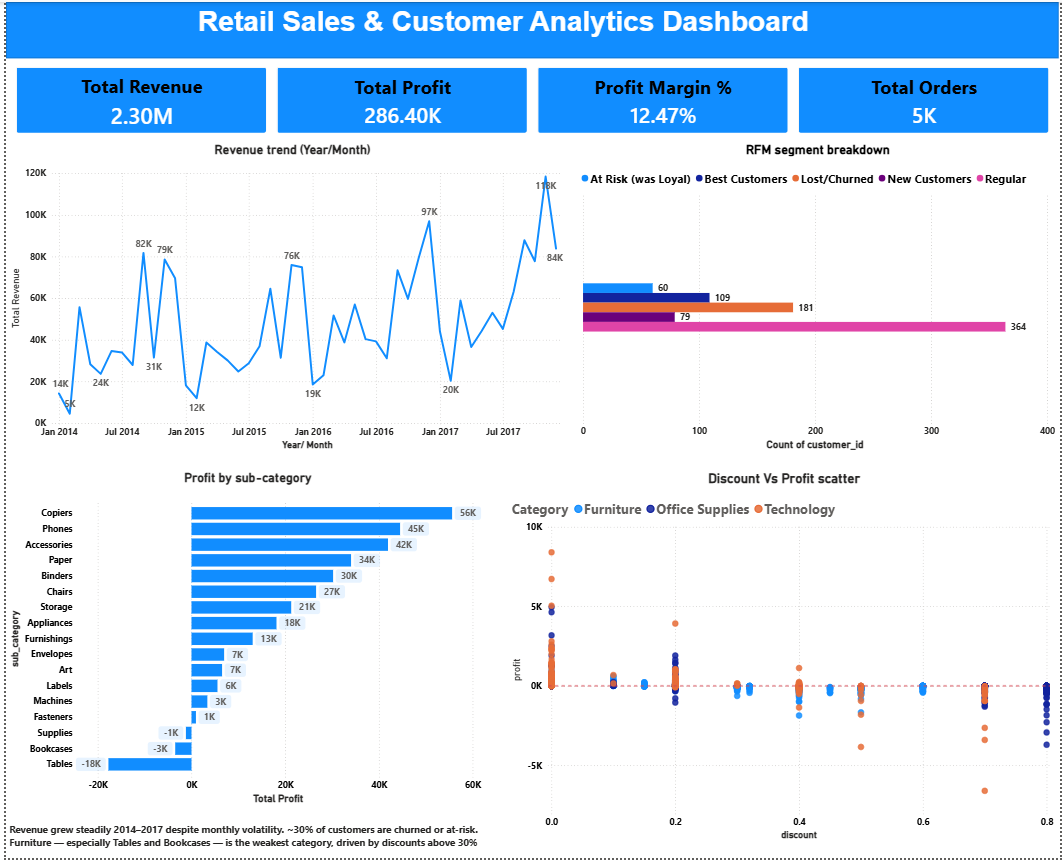

The page's visual inventory and layout, read from the dashboard file:
{"tool":"powerbi","page":{"name":"Page 1","canvas":[1600,1300],"ordinal":0},"visuals":[{"type":"cardVisual","fields":{"Data":["Measures Table.Total Revenue","Measures Table.Total Profit","Measures Table.Profit Margin %","Measures Table.Total Orders"]},"box":[1.9,85.4,1596.5,127.2],"z":0},{"type":"lineChart","title":"Revenue trend (Year/Month)","fields":{"Y":["Measures Table.Total Revenue"],"Category":["orders.order_date.Variation.Date Hierarchy.Year","orders.order_date.Variation.Date Hierarchy.Month"]},"box":[1.9,212.6,865.7,472.7],"z":1000},{"type":"actionButton","box":[0,0,100,40],"z":2000},{"type":"clusteredBarChart","title":"RFM segment breakdown","fields":{"Series":["rfm_segments.segment"],"Y":["Count(rfm_segments.customer_id)"]},"box":[867.6,212.6,730.9,472.7],"z":3000},{"type":"clusteredBarChart","title":"Profit by sub-category","fields":{"Category":["products.sub_category"],"Y":["Measures Table.Total Profit"]},"box":[0,711.9,734.7,510.7],"z":4000},{"type":"scatterChart","title":"Discount Vs Profit scatter","fields":{"X":["order_details.discount"],"Y":["order_details.profit"],"Series":["products.category"]},"box":[763.1,711.9,837.2,565.7],"z":5000},{"type":"shape","box":[0,0,1598.4,85.4],"z":6000},{"type":"textbox","box":[178.4,0,1154.2,85.4],"z":7000},{"type":"textbox","box":[0,1241.5,734.7,58.8],"z":8000}]}

Visuals, with their boxes in screenshot pixels (x1, y1, x2, y2), scaled from the page's 1600x1300 canvas onto the 1062x863 screenshot:
cardVisual - Measures Table.Total Revenue x Measures Table.Total Profit: BBox(1, 57, 1061, 141)
"Revenue trend (Year/Month)" lineChart: BBox(1, 141, 576, 455)
actionButton: BBox(0, 0, 66, 27)
"RFM segment breakdown" clusteredBarChart: BBox(576, 141, 1061, 455)
"Profit by sub-category" clusteredBarChart: BBox(0, 473, 488, 812)
"Discount Vs Profit scatter" scatterChart: BBox(507, 473, 1061, 848)
shape: BBox(0, 0, 1061, 57)
textbox: BBox(118, 0, 885, 57)
textbox: BBox(0, 824, 488, 862)
